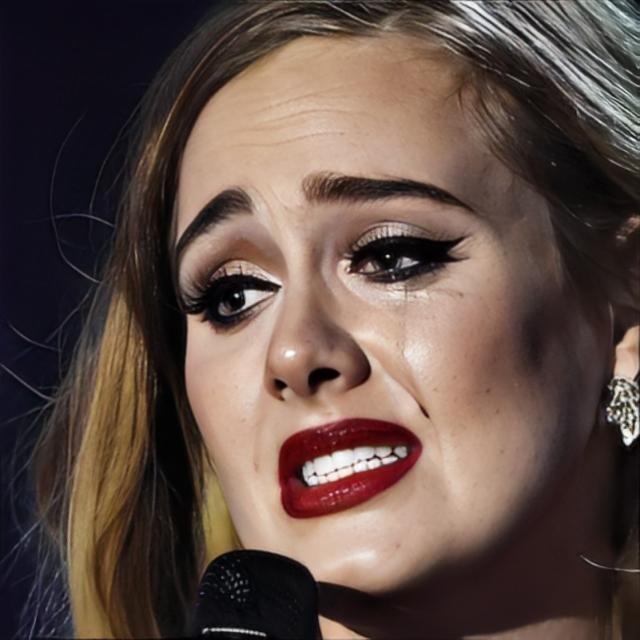sad: (175, 36, 588, 591)
